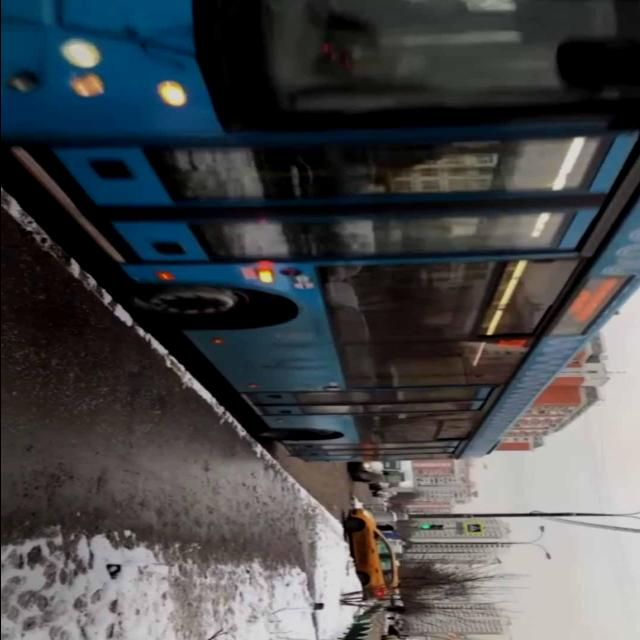bus: (1, 1, 640, 465)
